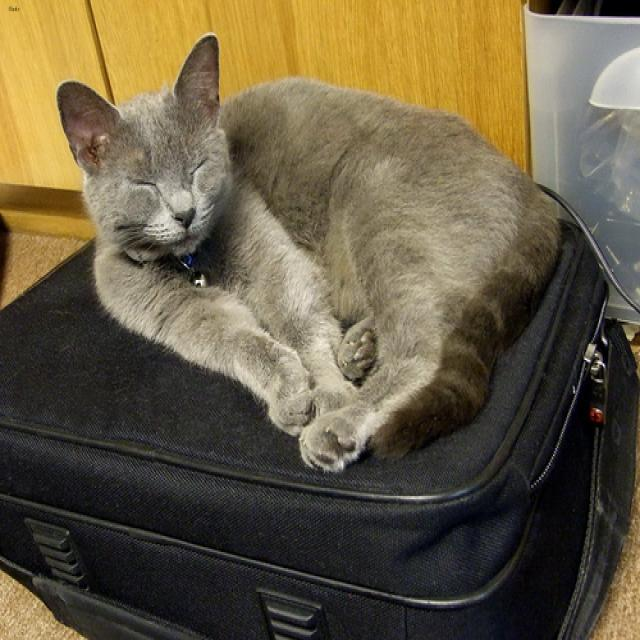cat: (55, 32, 230, 253)
